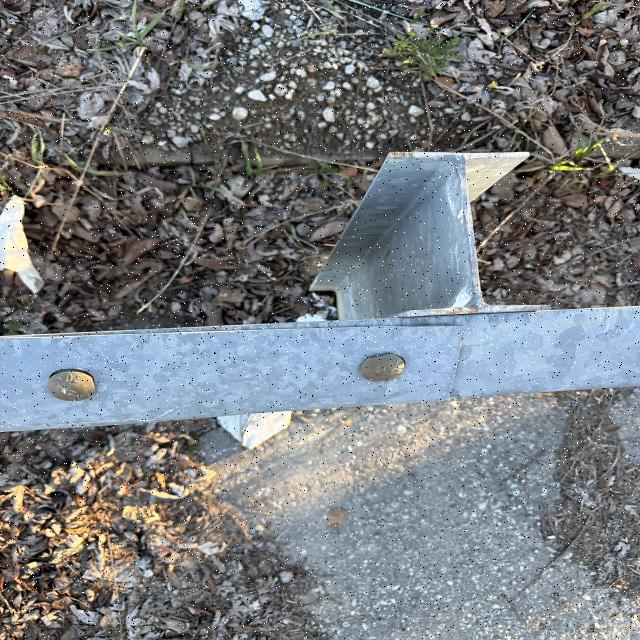Guard rail: (29, 181, 636, 415)
